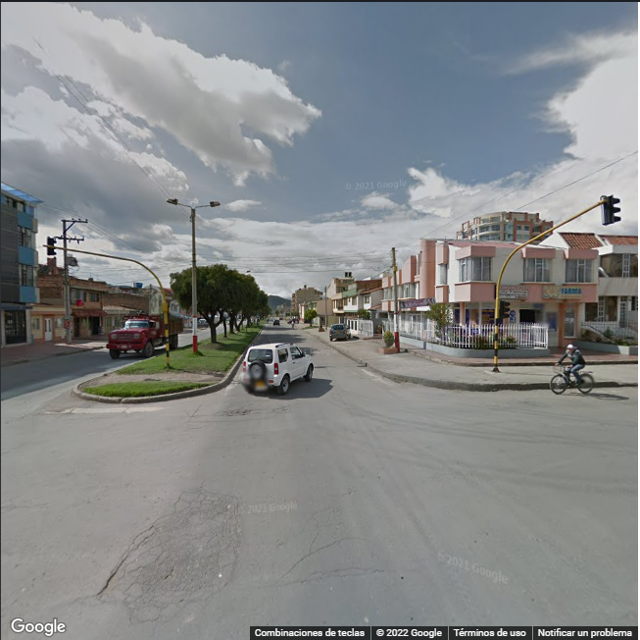D00: (94, 535, 149, 598), (300, 513, 323, 557)
D10: (281, 528, 359, 581)
D20: (170, 488, 245, 514)
D40: (95, 527, 256, 602)
